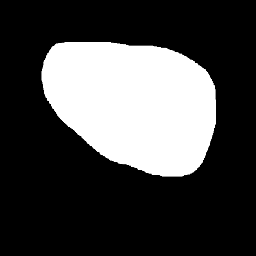mass: (32, 42, 216, 172)
